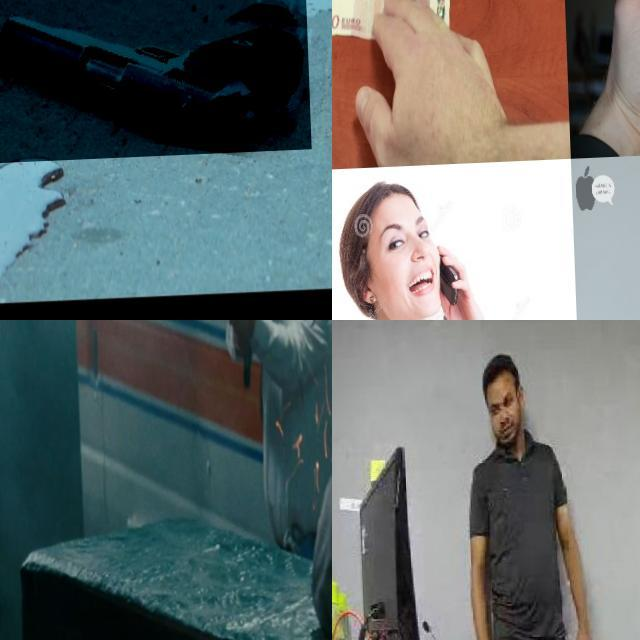gun-knife-thesis - v11 Yolov5 augmented: (0, 0, 308, 165), (216, 320, 264, 406)
